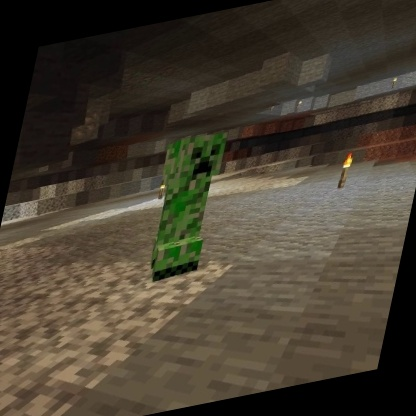creeper: (134, 126, 234, 288)
